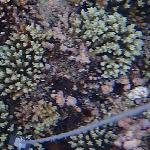dead: (7, 4, 138, 145)
